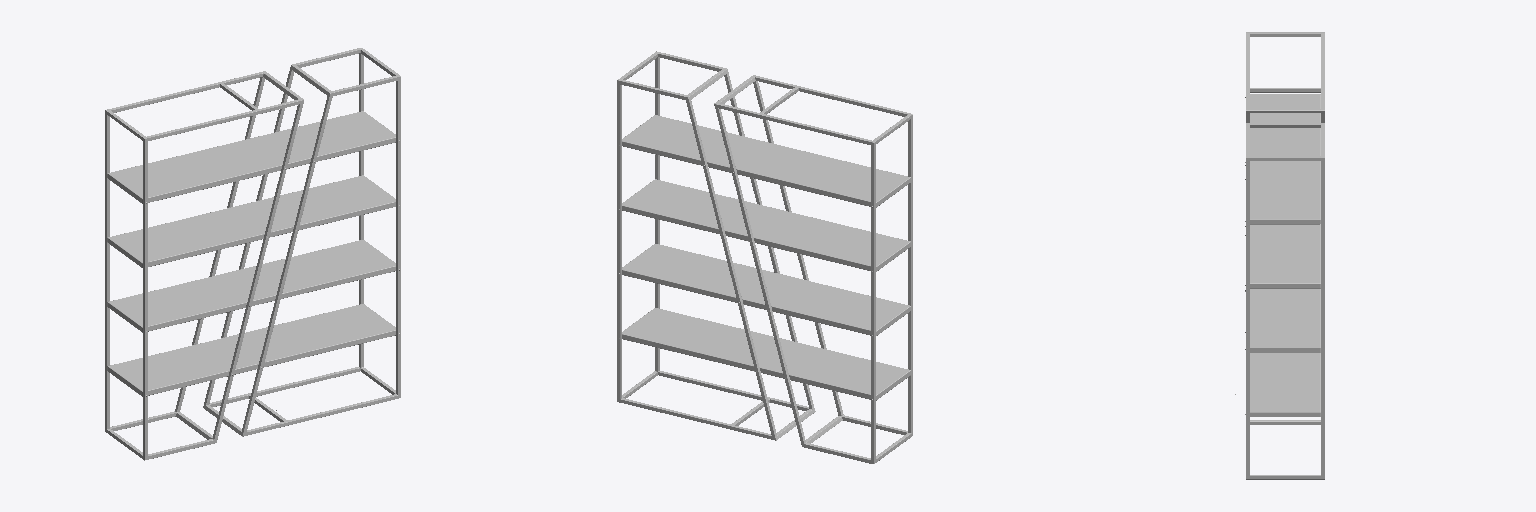
File: etagere.obj
3 views of the same model, side by side, from view 1: azimuth 30°, elevation 25°; view 2: azimuth 150°, elevation 25°; view 3: azimuth 270°, elevation 25° (orthographic).
Visible parts, largest first — view 1: Rack_Horizon__corona; view 2: Rack_Horizon__corona; view 3: Rack_Horizon__corona.
Part boxes in pixels (left/top/right/bottom): Rack_Horizon__corona: left=105, top=48, right=400, bottom=460; Rack_Horizon__corona: left=617, top=51, right=912, bottom=463; Rack_Horizon__corona: left=1245, top=32, right=1324, bottom=479.
Size of the model in its own units: 20.32 by 24.34 by 6.21.